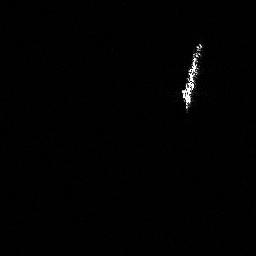ship: (179, 40, 204, 111)
